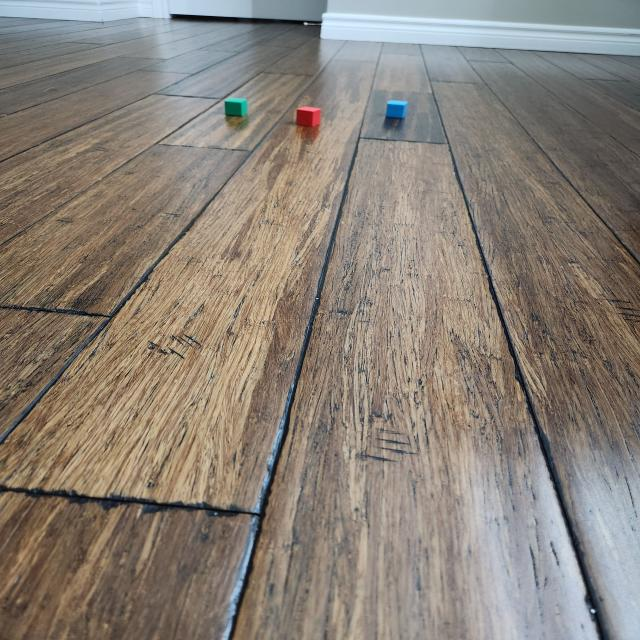bluecube: (386, 100, 408, 120)
green cube: (225, 96, 248, 118)
red cube: (295, 106, 321, 127)
